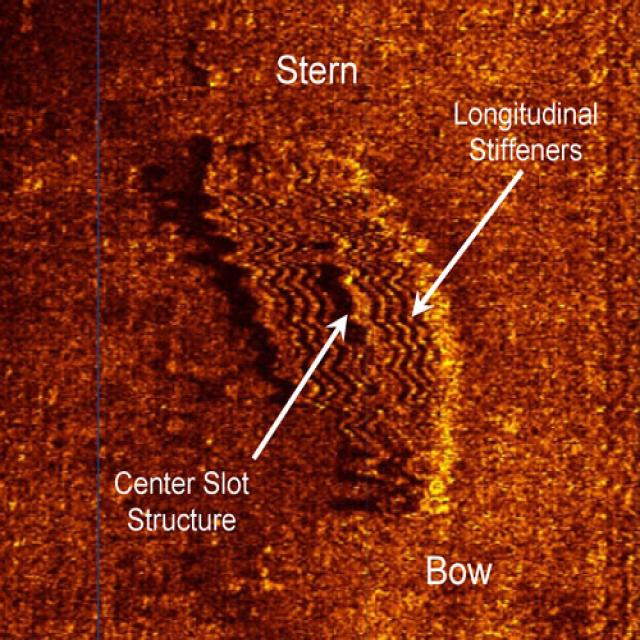ship: (202, 137, 458, 507)
